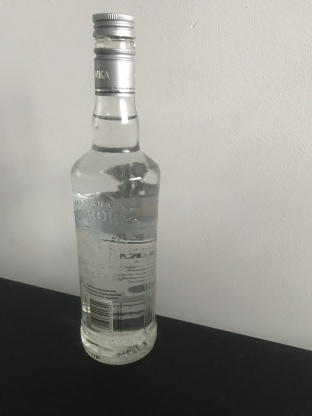nakretka: (91, 11, 137, 98)
